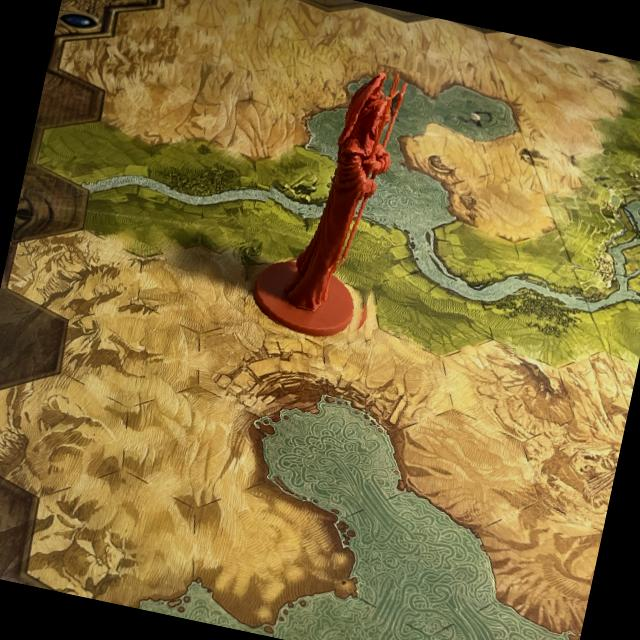amon: (234, 42, 436, 352)
